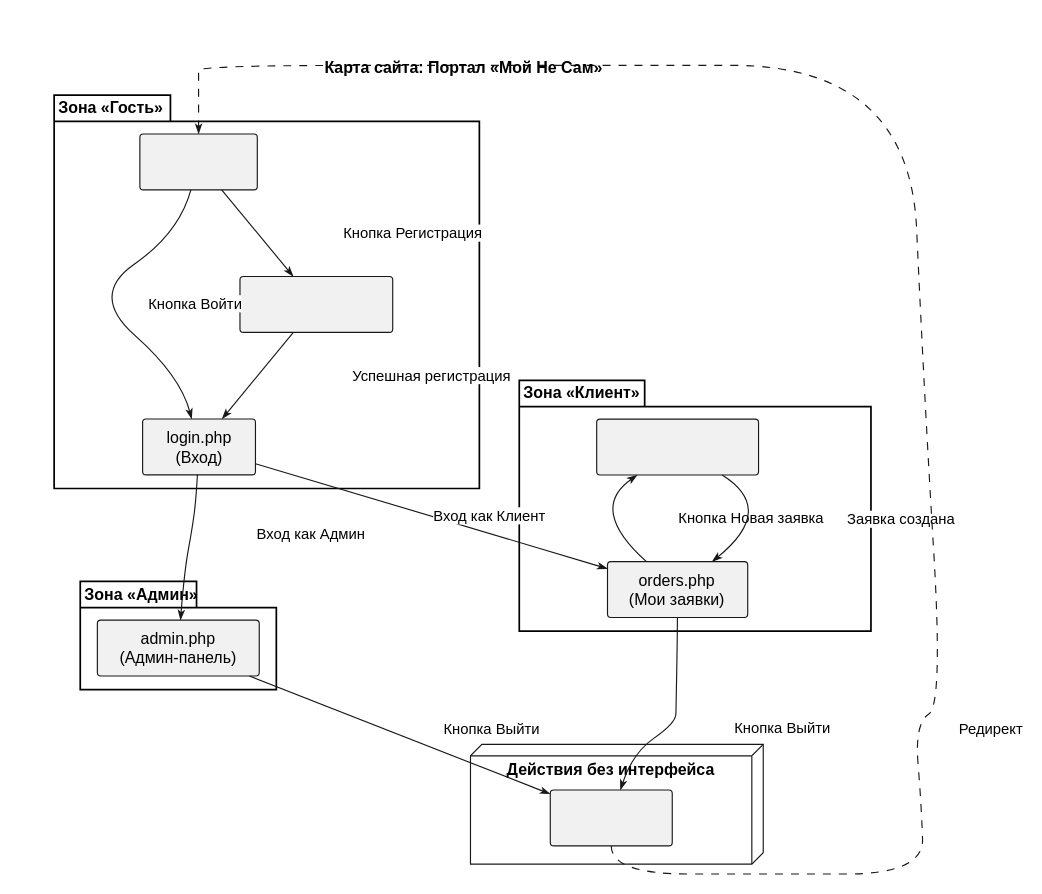
The diagram is 1042 pixels wide and 894 high, and some of its shapes have lost their labels. The shapes that lost their labels are listed below. From the top down, each one's centre as x and y in pixels, then its label:
At pixel 198 161: "index.php (Главная)".
At pixel 316 303: "register.php (Регистрация)".
At pixel 677 446: "order_new.php (Новая заявка)".
At pixel 610 817: "logout.php (Выход)".
